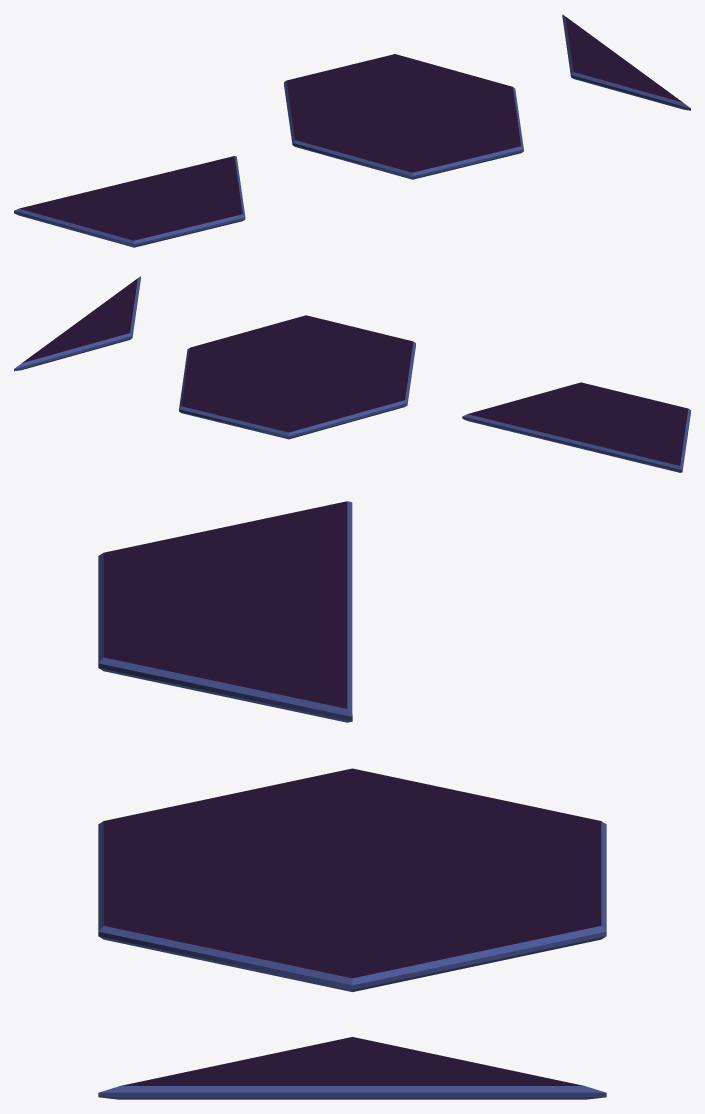
Rendered from Ramp.FBX.
The picture shows the model from 3 angles, top to bottom: view 1: azimuth 30°, elevation 25°; view 2: azimuth 150°, elevation 25°; view 3: azimuth 270°, elevation 25°; orthographic projection. The views are drawn at different scales.
Parts seen in each view (by area): view 1: Cylinder001, Cylinder004, Cylinder005; view 2: Cylinder001, Cylinder004, Cylinder005; view 3: Cylinder001, Cylinder004, Cylinder005.
Part boxes in pixels (x1,y1,x2,y2): Cylinder001: (284,54,523,179); Cylinder004: (14,156,245,247); Cylinder005: (562,14,690,110); Cylinder001: (179,315,415,439); Cylinder004: (462,382,690,472); Cylinder005: (14,276,140,371); Cylinder001: (98,768,606,991); Cylinder004: (98,501,352,722); Cylinder005: (98,1037,606,1099).
Bounding box in the file's own units: 5.5 × 0.0601 × 2.
